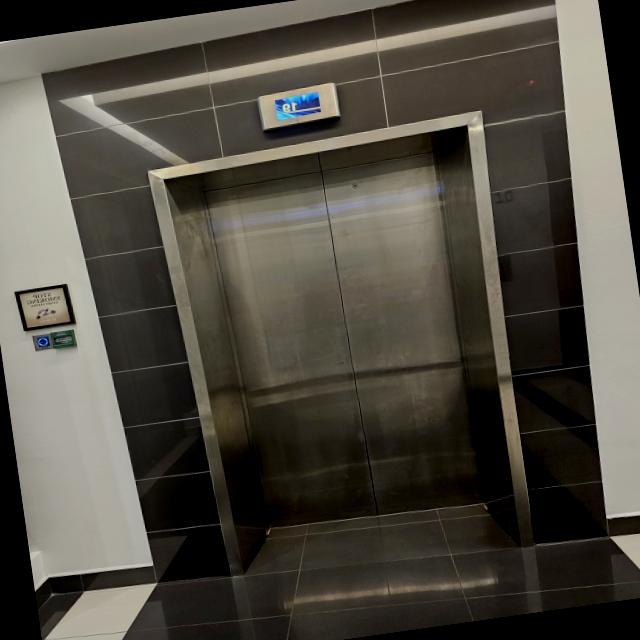elevator: (142, 108, 544, 593)
